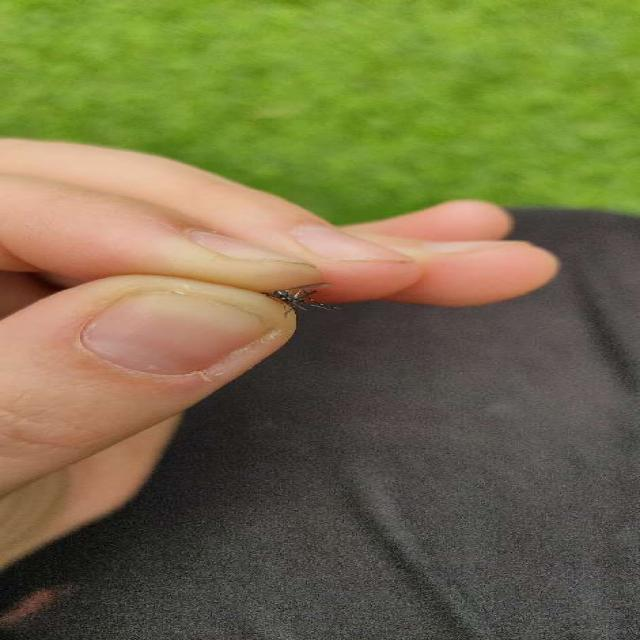albopictus: (208, 276, 369, 326)
